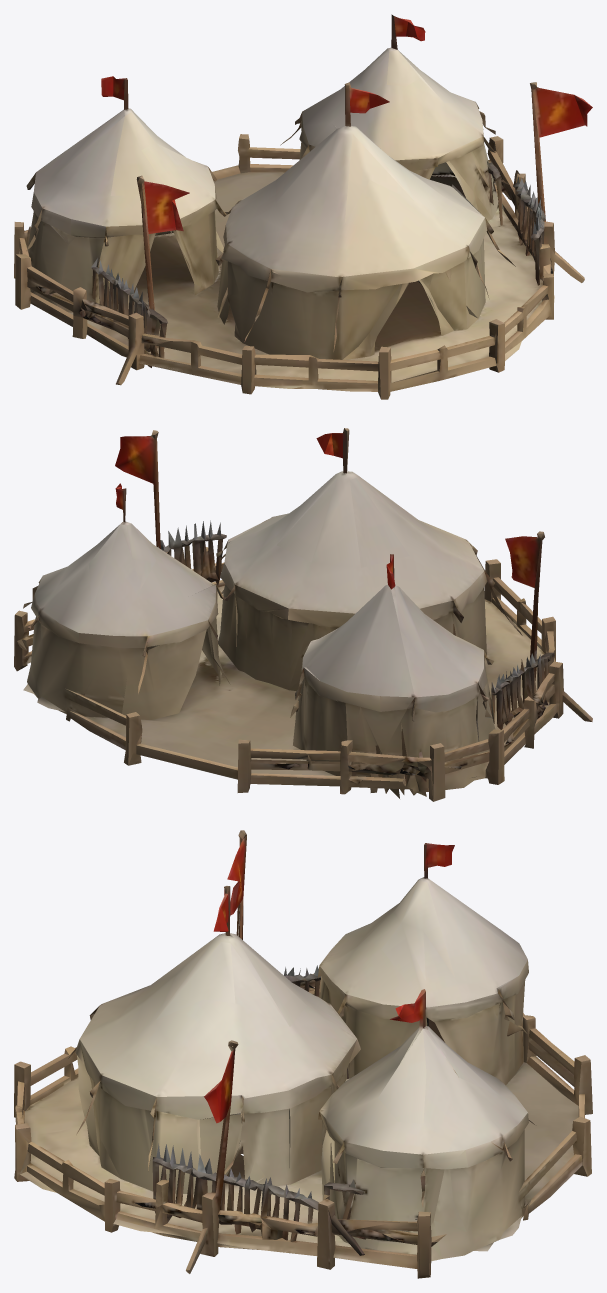
3 renders of one model, top to bottom at view 1: azimuth 30°, elevation 25°; view 2: azimuth 150°, elevation 25°; view 3: azimuth 270°, elevation 25°, orthographic. The views are drawn at different scales.
Parts seen in each view (by area): view 1: geometry_0; view 2: geometry_0; view 3: geometry_0.
Part boxes in pixels (x1,y1,x2,y2): geometry_0: [14, 14, 592, 399]; geometry_0: [14, 428, 592, 801]; geometry_0: [14, 830, 592, 1278].
Bounding box in the file's own units: 1 × 0.4788 × 0.9277.
1 material, 1 textured.
